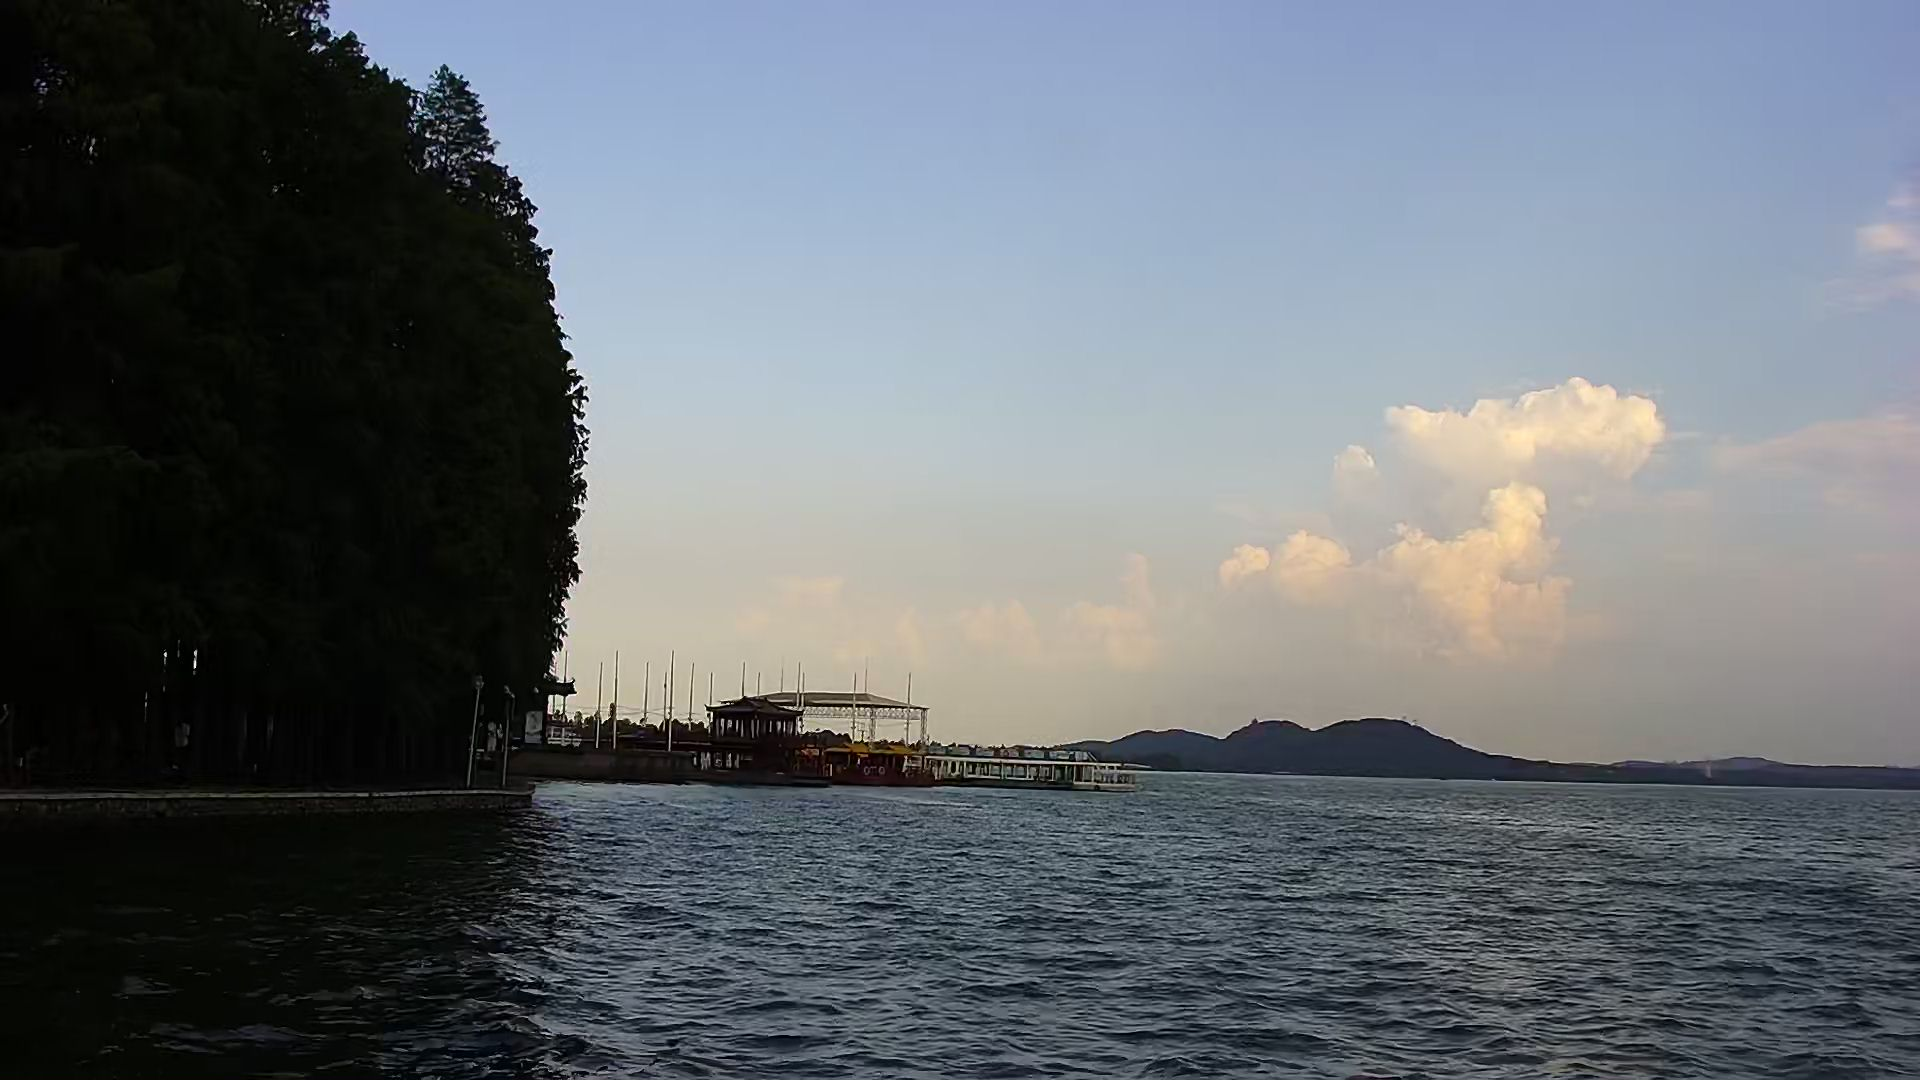boat: (932, 741, 1135, 799)
